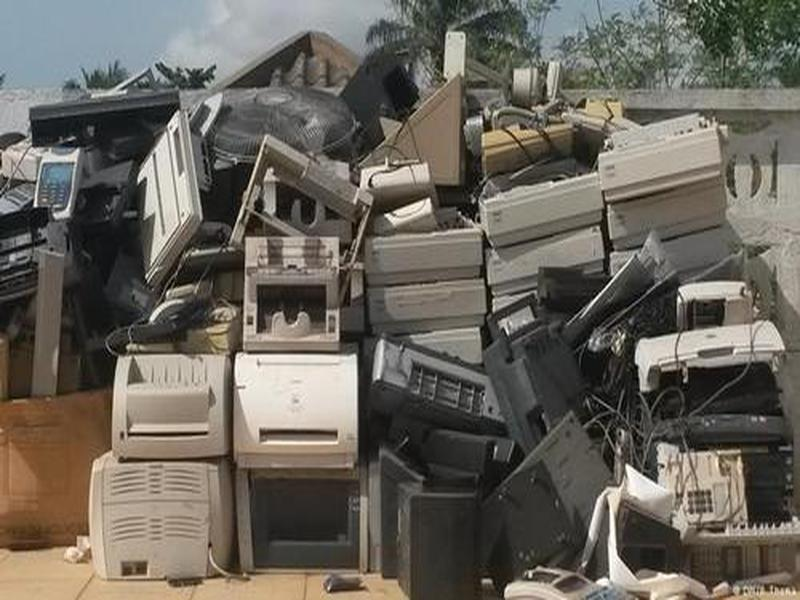printer: (228, 350, 366, 474), (232, 231, 354, 353), (369, 228, 491, 286), (364, 280, 495, 334)
